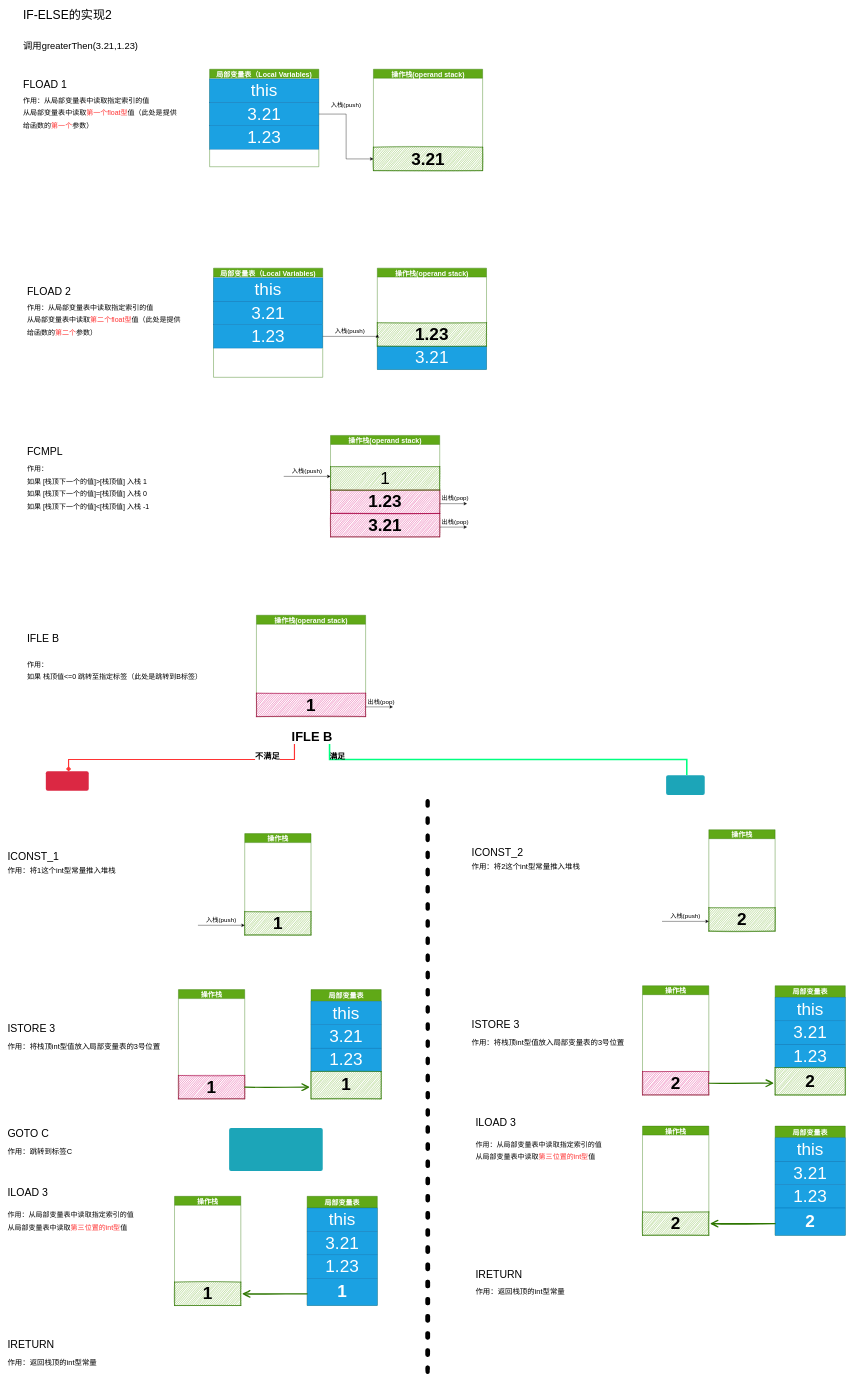
Some shapes in this 852 by 1381 pixel diagram are drawn without their labels. The box of each missing label's shape, as (x1, y1, x2, y2) in pixels:
B:: (666, 775, 705, 795)
C:: (229, 1128, 323, 1171)
继续: (46, 771, 89, 791)
